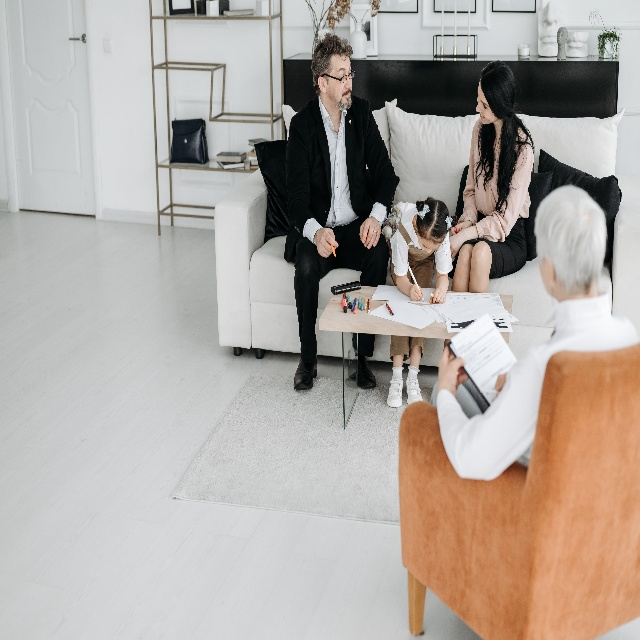Gafas: (329, 69, 356, 84)
Sin_guantes: (437, 345, 470, 391), (314, 224, 337, 259), (359, 217, 381, 250), (428, 288, 446, 307), (451, 222, 471, 237), (449, 235, 460, 260), (409, 283, 424, 301)
